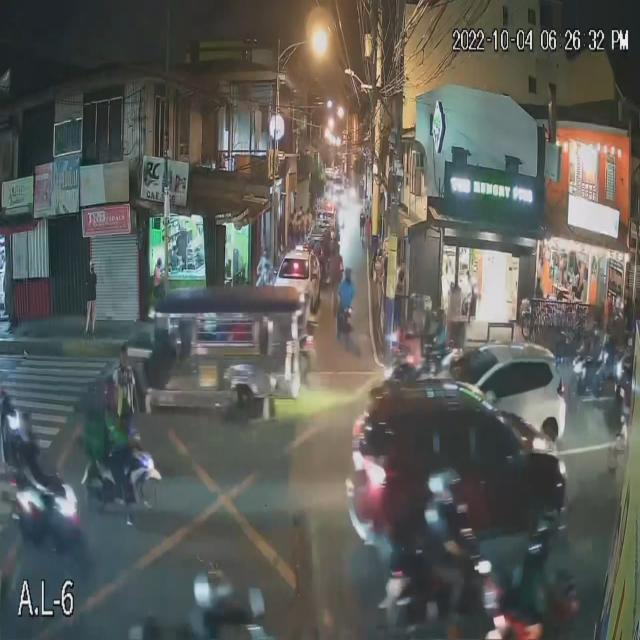Full-Faced: (426, 463, 461, 509), (342, 262, 354, 285), (590, 321, 602, 340)
